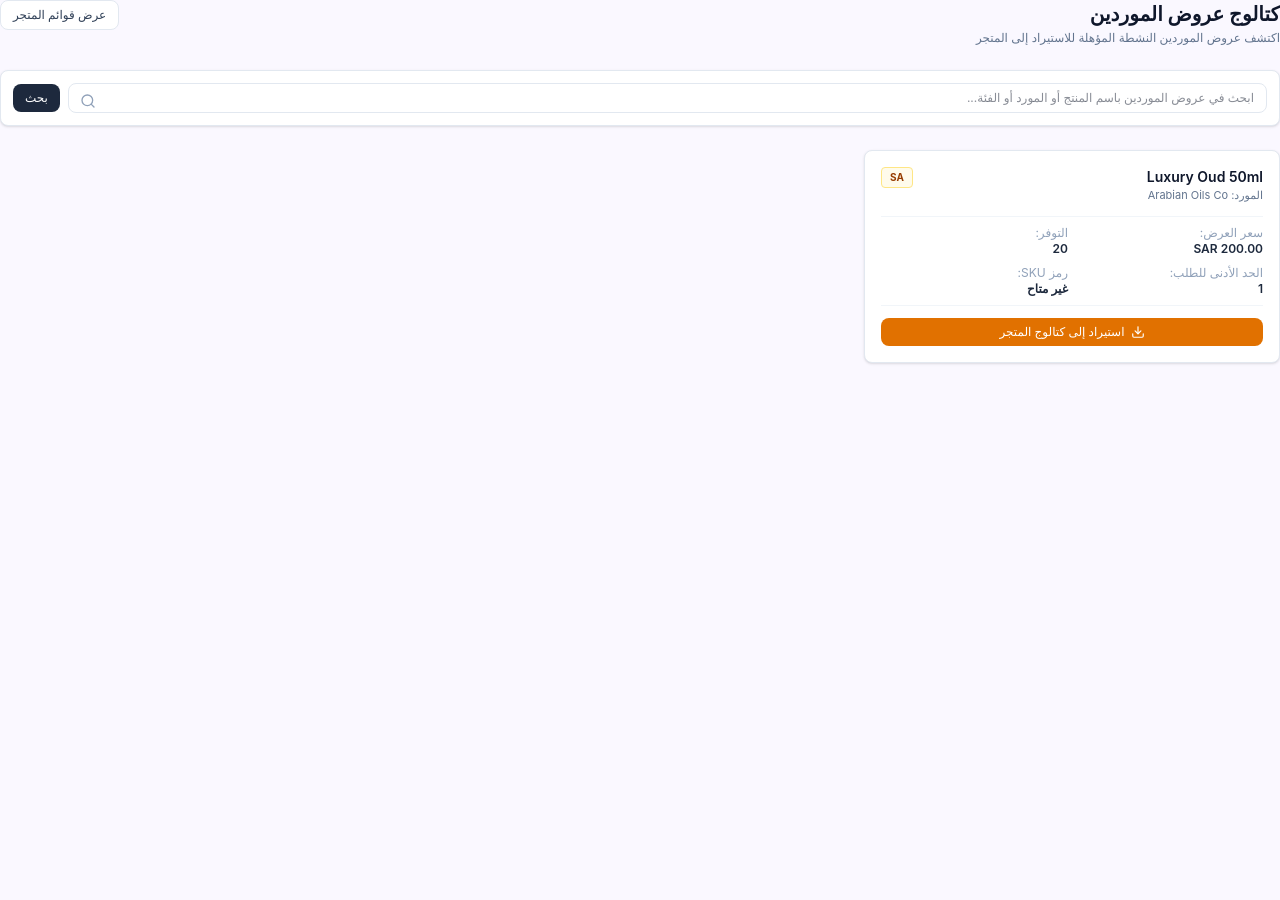
Arabic Localization & RTL Switching (US5) › renders the supplier offer import modal in Arabic under RTL and preserves the markup import payload
The width and height of the screenshot is (1280, 900).
Click the button "استيراد إلى كتالوج المتجر" at (1072, 332), box [881, 318, 1263, 346]
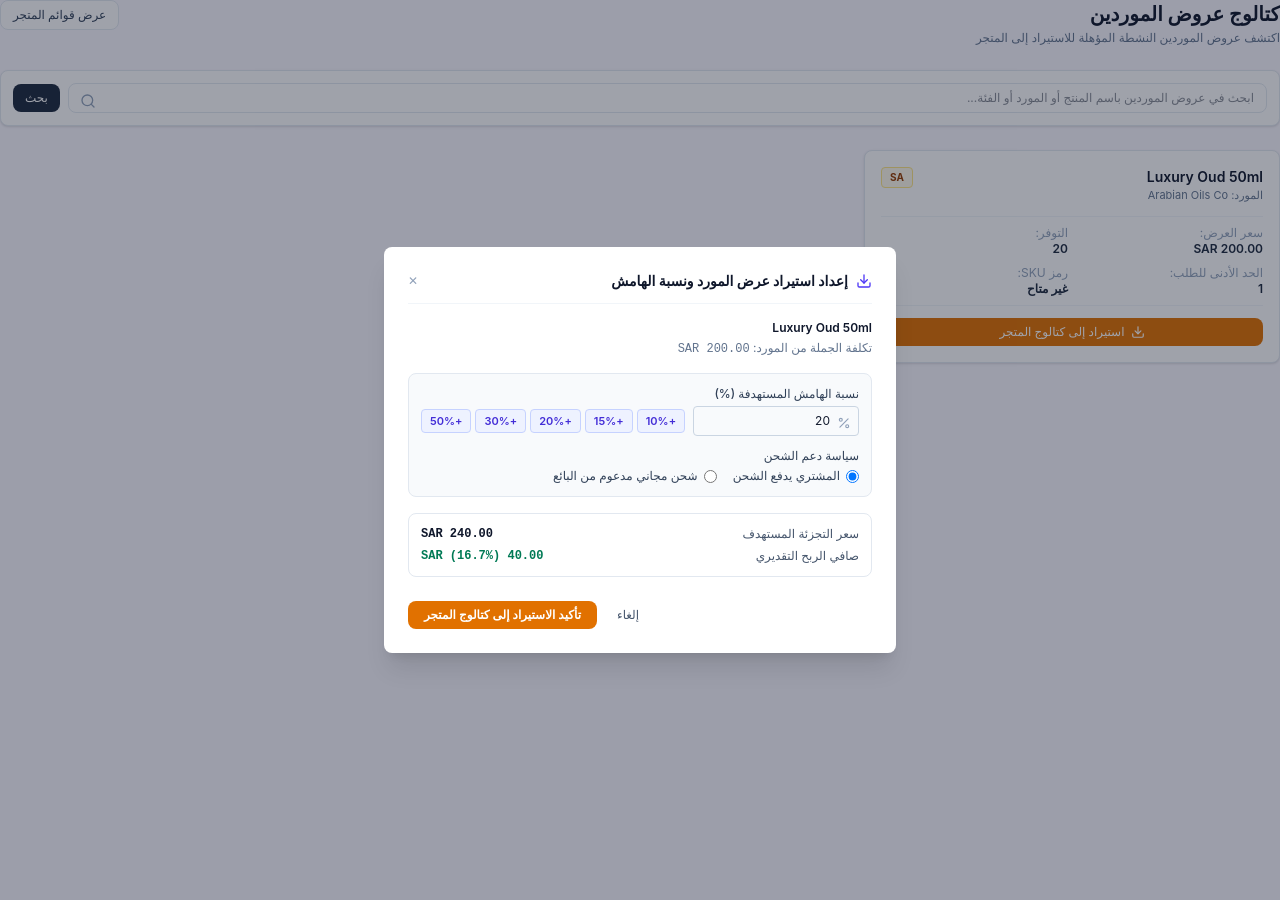
Expected: the heading "إعداد استيراد عرض المورد ونسبة الهامش" is shown, [611, 271, 872, 291]
Expected: the text "نسبة الهامش المستهدفة (%)" is shown, [714, 386, 859, 401]
Expected: the text "إعداد استيراد عرض المورد ونسبة الهامش" shows "تكلفة الجملة من المورد: 200.00 SAR", [384, 247, 896, 653]
Click the button "تأكيد الاستيراد إلى كتالوج المتجر" at (502, 615), box [408, 601, 597, 629]
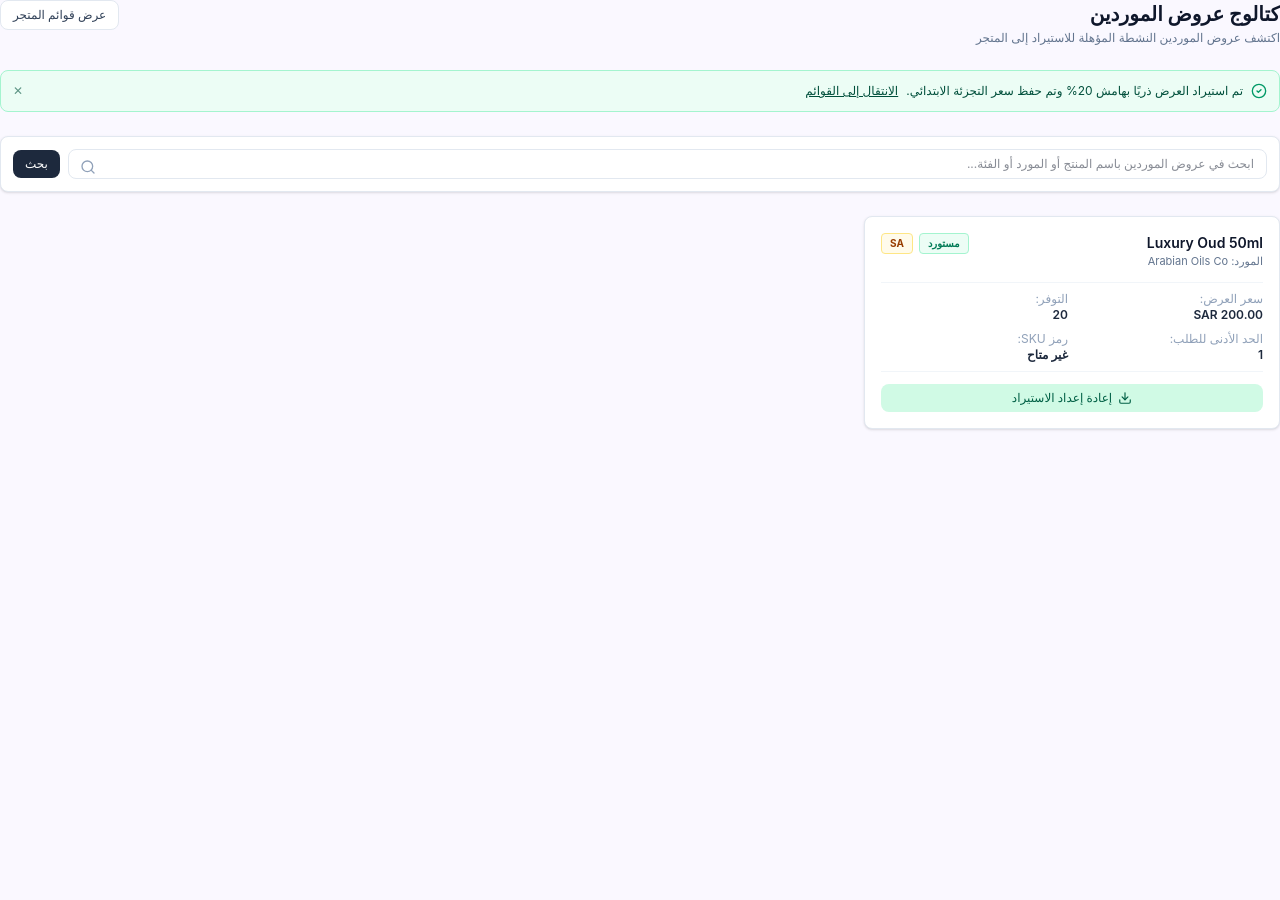
Expected: the text "تم استيراد العرض ذريًا بهامش 20% وتم حفظ سعر التجزئة الابتدائي." is shown, [906, 83, 1243, 99]
Expected: the link "الانتقال إلى القوائم" is shown, [805, 83, 898, 99]
